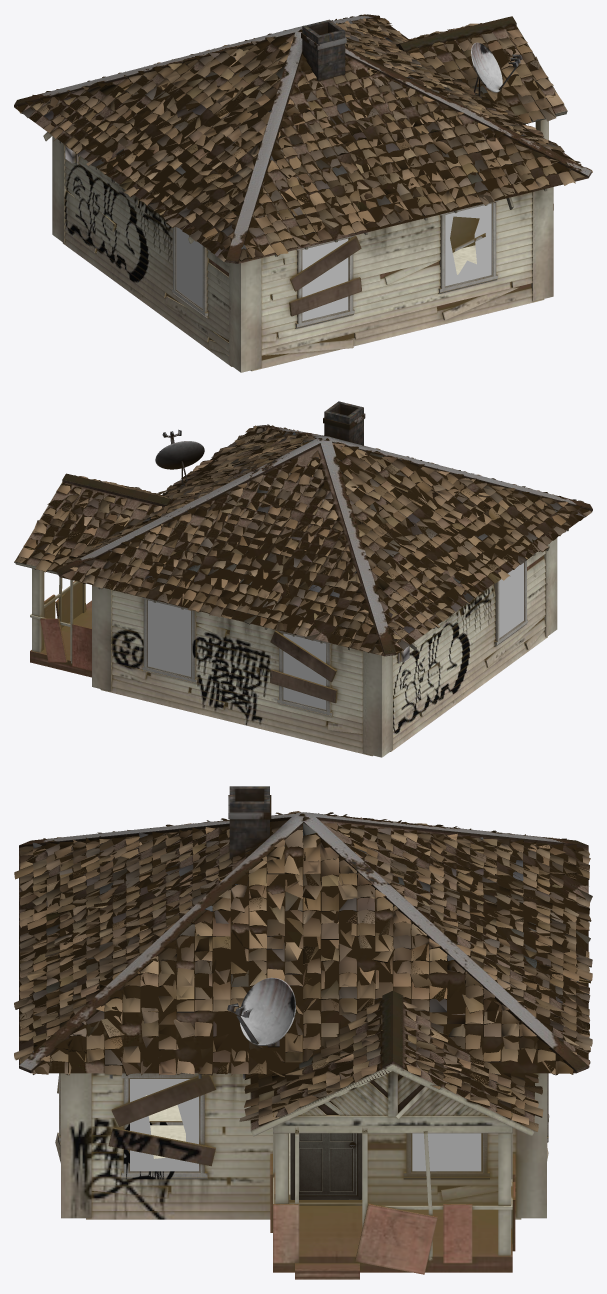
Rendered from abandoned_residence.glb.
3 renders of one model, top to bottom at view 1: azimuth 30°, elevation 25°; view 2: azimuth 150°, elevation 25°; view 3: azimuth 270°, elevation 25°, orthographic. The views are drawn at different scales.
Parts seen in each view (by area): view 1: roof, main, accs, windows; view 2: accs, roof, main, windows; view 3: roof, accs, main, windows, door.
Part boxes in pixels (<box>): roof: <box>16,14,592,261</box>; main: <box>52,96,553,372</box>; accs: <box>14,14,591,263</box>; windows: <box>172,200,498,328</box>; accs: <box>15,401,592,656</box>; roof: <box>14,424,591,655</box>; main: <box>27,538,557,757</box>; windows: <box>142,560,527,716</box>; roof: <box>14,811,592,1131</box>; accs: <box>19,786,588,1136</box>; main: <box>55,1071,549,1279</box>; windows: <box>59,1073,548,1179</box>; door: <box>290,1133,362,1199</box>.
Size of the model in its own units: 10.39 by 5.86 by 9.31.
Materials: 6 (5 with a texture image).
